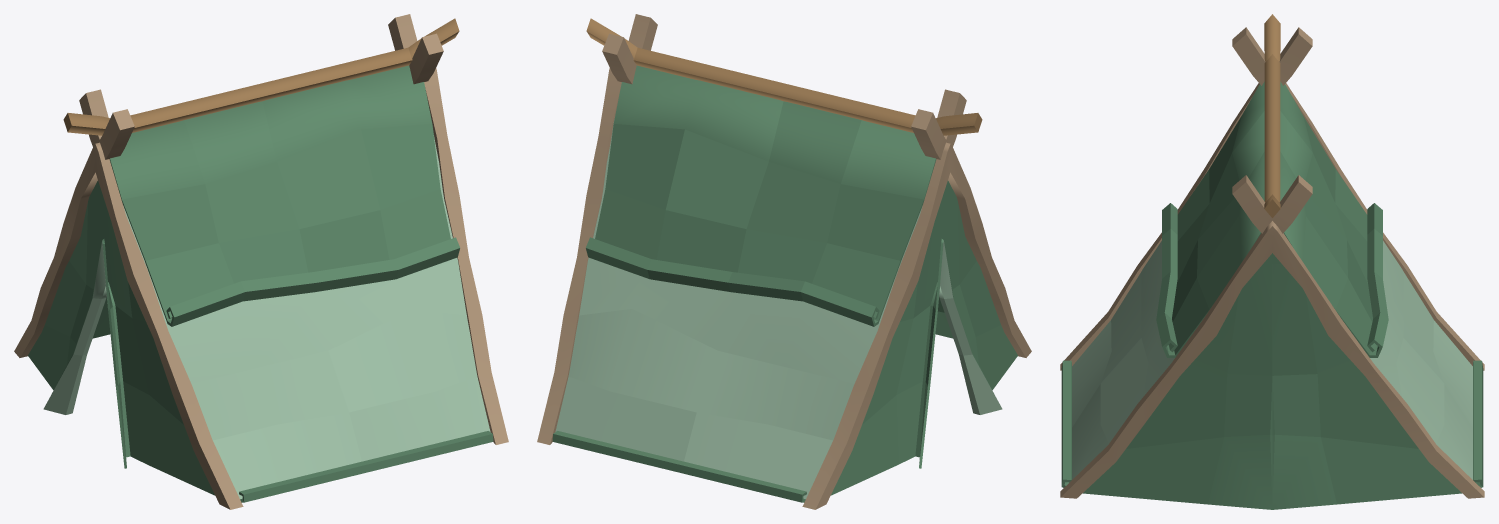
File: tent.fbx
3 views of the same model, side by side, from view 1: azimuth 30°, elevation 25°; view 2: azimuth 150°, elevation 25°; view 3: azimuth 270°, elevation 25° (orthographic). The views are drawn at different scales.
Parts seen in each view (by area): view 1: Tent_new; view 2: Tent_new; view 3: Tent_new.
Boxes of the visible parts, x1,y1,x2,y2 form: Tent_new: [14, 14, 508, 509]; Tent_new: [537, 14, 1031, 509]; Tent_new: [1060, 14, 1484, 509].
Size of the model in its own units: 264 by 217 by 255.
